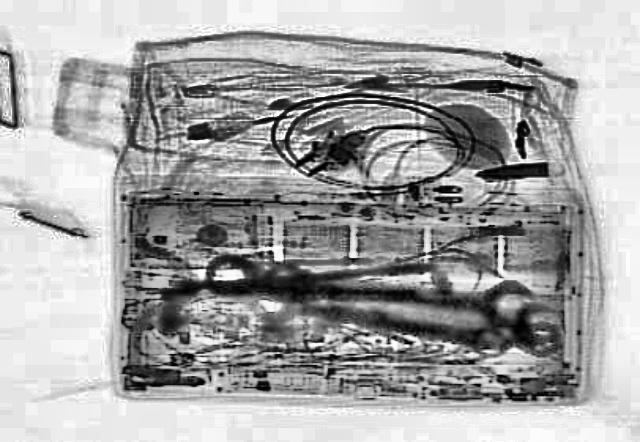Wrench: (198, 239, 536, 330)
